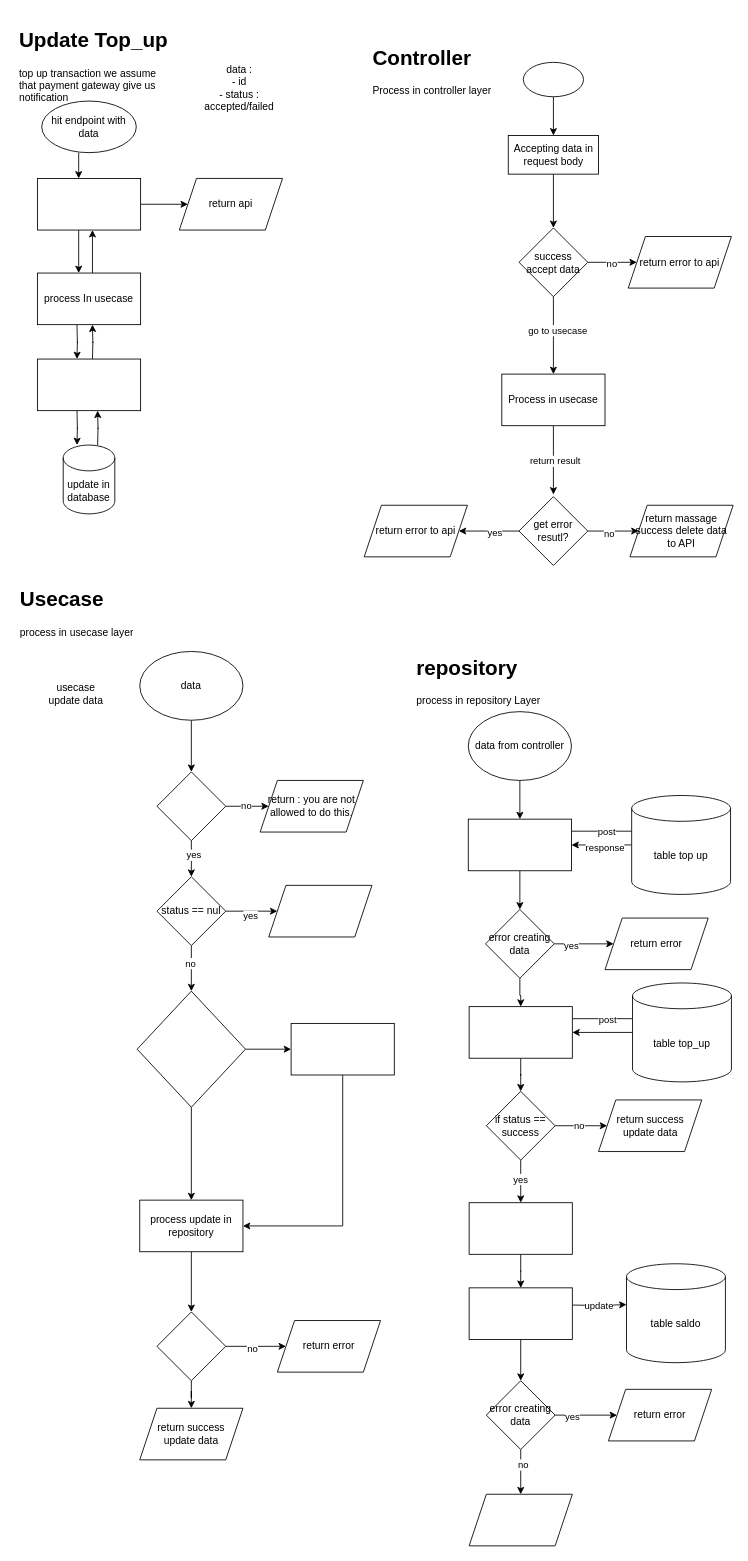
Some shapes in this 748 by 1561 pixel diagram are drawn without their labels. Each missing label, with the box of its shape:
check is time now > time waiting: (136, 990, 246, 1107)
do query get data top up: (468, 1006, 572, 1058)
do query update to table top up: (467, 818, 571, 871)
process In controller: (37, 178, 141, 230)
process In repository: (37, 358, 141, 411)
query update ke data tota saving (tabel saving): (468, 1287, 572, 1339)
return success: (468, 1493, 572, 1546)
start: (522, 61, 584, 97)
status = canceled: (290, 1023, 394, 1075)
success update data: (156, 1311, 226, 1381)
tambahkan di tabel saving (total_saving ) dengan data (top up amount): (468, 1202, 572, 1254)
top up amount required: (268, 885, 372, 937)
user.role == admin: (156, 771, 226, 841)
